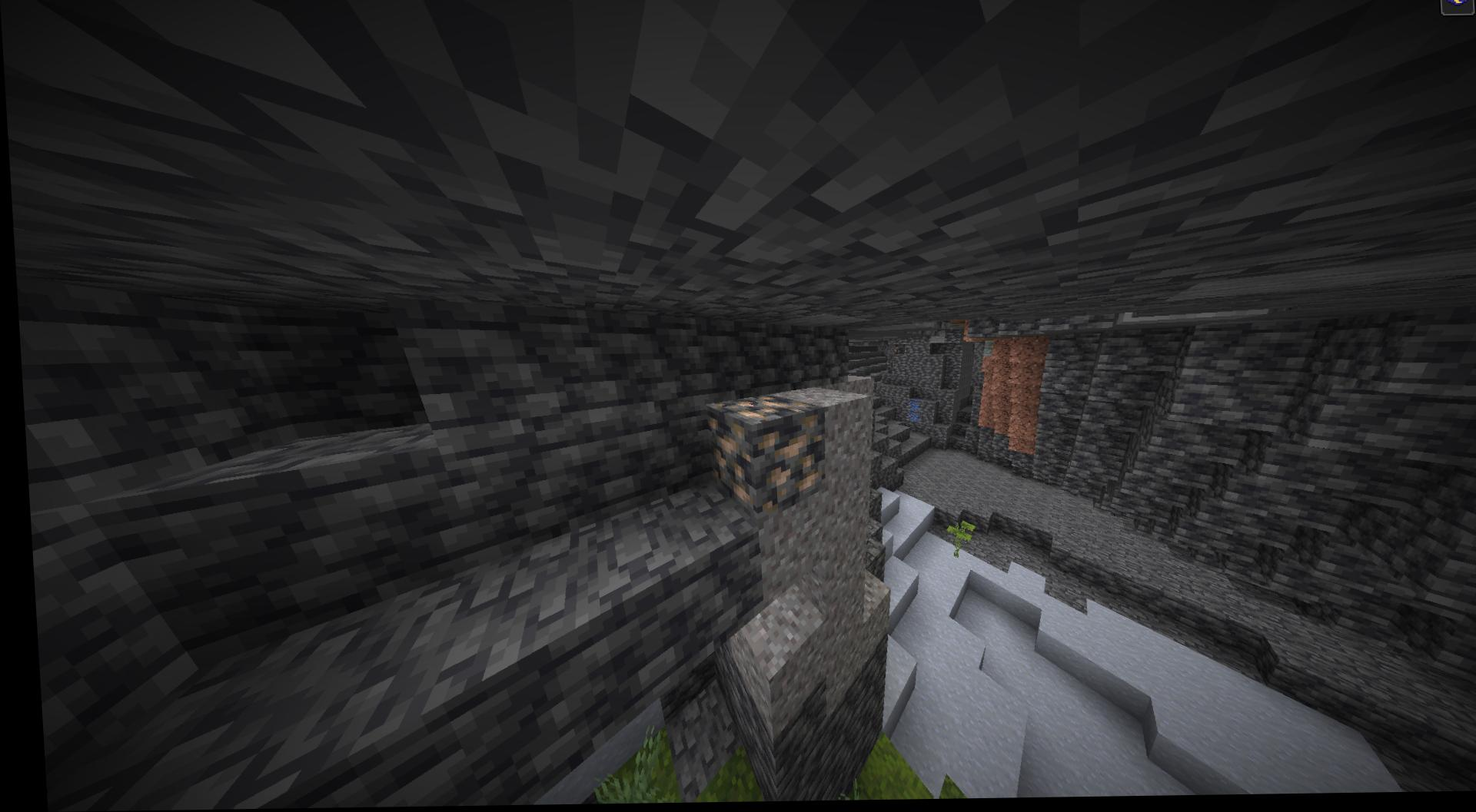iron ore: (751, 420, 824, 513), (695, 413, 749, 506), (708, 389, 807, 427)
